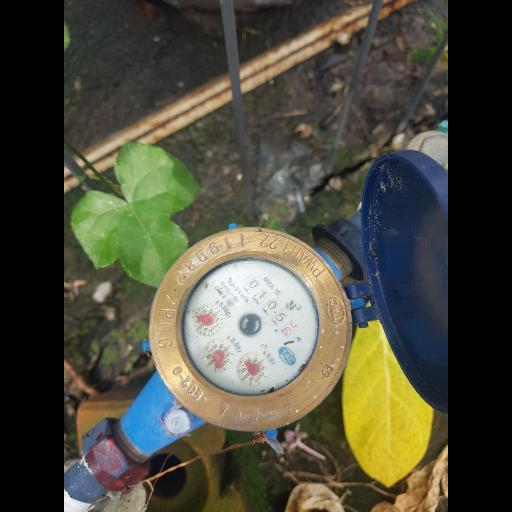0: (261, 298, 280, 316), (243, 278, 261, 295)
1: (252, 287, 271, 305)
5: (271, 308, 289, 326)
6: (280, 319, 299, 337)
border_water_meter_number: (243, 277, 299, 338)
